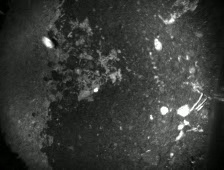corn: (40, 34, 57, 51), (151, 36, 164, 52), (92, 86, 100, 93)
